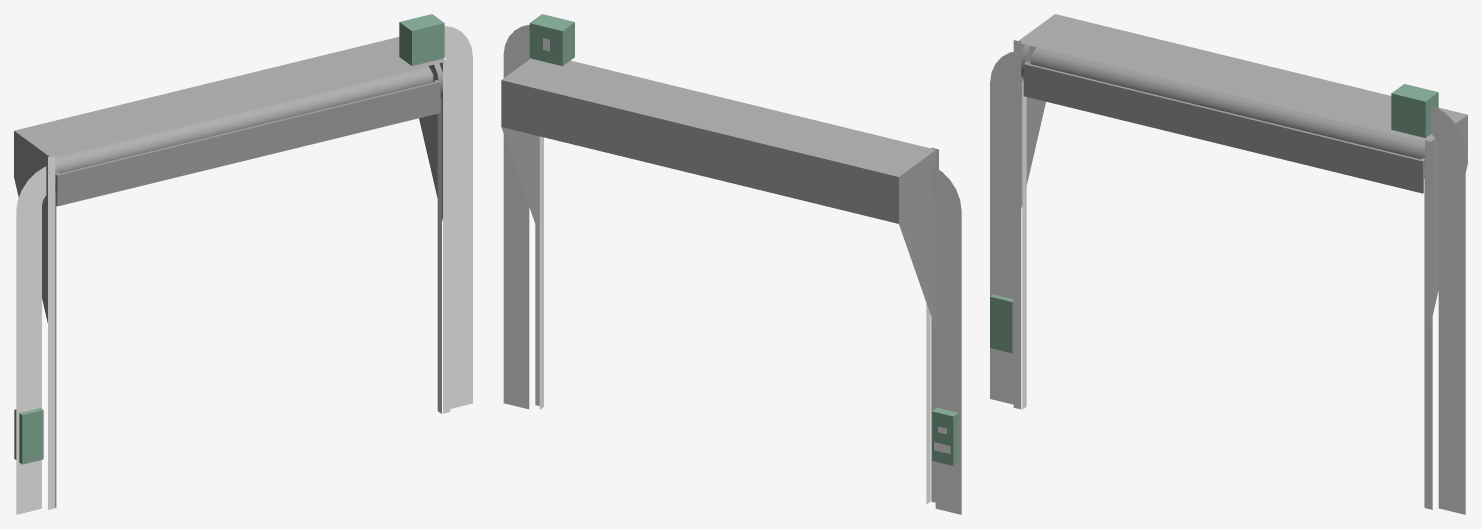
The model's file is s_wh_garage_open.dae.
3 renders of one model, left to right at view 1: azimuth 30°, elevation 25°; view 2: azimuth 150°, elevation 25°; view 3: azimuth 330°, elevation 25°, orthographic. The views are drawn at different scales.
Parts seen in each view (by area): view 1: s_wh_garage_open_L250, Colmesh_s_wh_garage_open-1; view 2: s_wh_garage_open_L250, Colmesh_s_wh_garage_open-1; view 3: s_wh_garage_open_L250, Colmesh_s_wh_garage_open-1.
Part boxes in pixels (x1,y1,x2,y2): s_wh_garage_open_L250: (14, 16, 472, 514); Colmesh_s_wh_garage_open-1: (14, 14, 446, 464); s_wh_garage_open_L250: (501, 14, 961, 514); Colmesh_s_wh_garage_open-1: (516, 14, 935, 176); s_wh_garage_open_L250: (990, 14, 1467, 514); Colmesh_s_wh_garage_open-1: (990, 14, 1467, 353).
Size of the model in its own units: 7.34 by 1.05 by 6.03.
